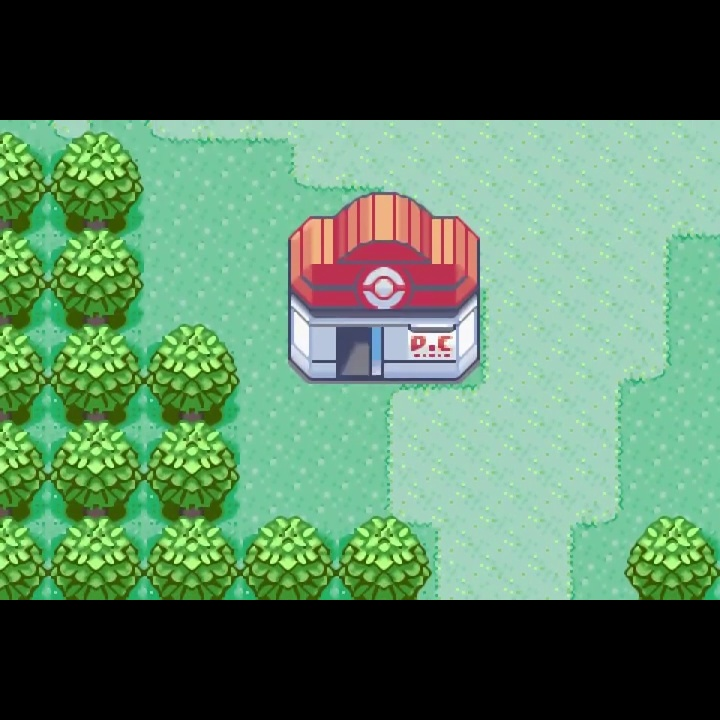pokecen: (285, 188, 483, 384)
wall: (144, 322, 240, 425), (48, 323, 146, 422), (48, 131, 145, 229), (48, 227, 143, 327), (145, 421, 241, 518), (49, 420, 143, 517), (47, 515, 146, 599), (238, 515, 336, 599), (623, 515, 720, 598), (336, 516, 431, 599), (144, 517, 239, 599), (1, 419, 50, 516), (1, 324, 49, 422), (1, 227, 49, 324), (1, 130, 48, 227), (1, 515, 48, 600)
